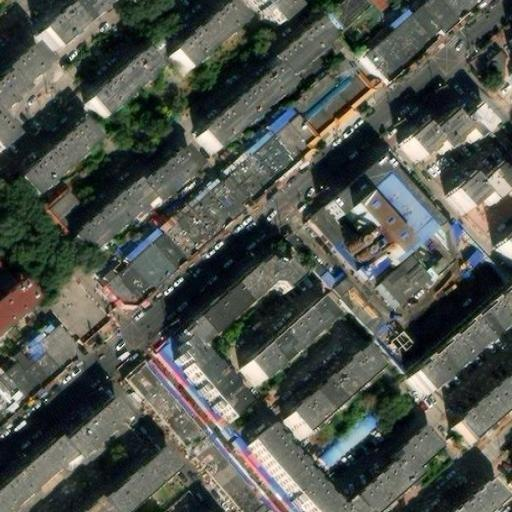building: (100, 106, 317, 305), (123, 357, 283, 512), (175, 262, 302, 428), (197, 24, 331, 157), (351, 157, 460, 313), (0, 399, 132, 512), (72, 150, 198, 258), (410, 283, 512, 397), (306, 177, 394, 289), (284, 349, 383, 443), (243, 301, 339, 391), (246, 430, 339, 512), (11, 123, 97, 205), (3, 320, 86, 401), (82, 447, 181, 512), (291, 55, 371, 132), (169, 3, 247, 77), (399, 105, 493, 164), (84, 50, 159, 121), (314, 407, 382, 470), (0, 48, 50, 115), (46, 187, 95, 236), (0, 288, 36, 341), (76, 311, 121, 351), (457, 480, 511, 512), (324, 0, 375, 33), (256, 0, 297, 27), (492, 222, 512, 262)
